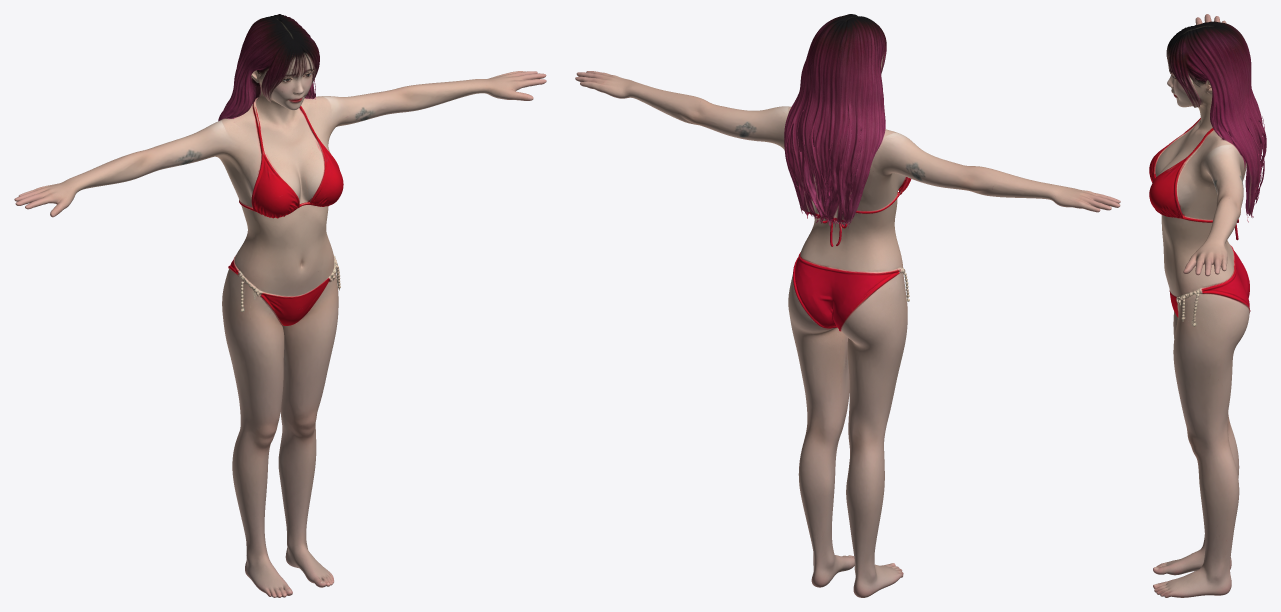
Rendered from Summoner2.glb.
3 views of the same model, side by side, from view 1: azimuth 30°, elevation 25°; view 2: azimuth 150°, elevation 25°; view 3: azimuth 270°, elevation 25° (orthographic). The views are drawn at different scales.
Bounding box in the file's own units: 1.9 × 1.9 × 0.3621.
1 material, 1 textured.
